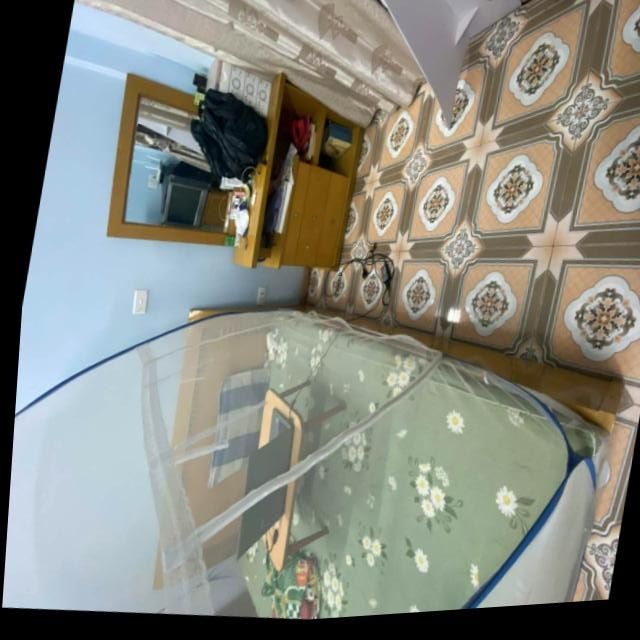outlet: (255, 286, 267, 306)
